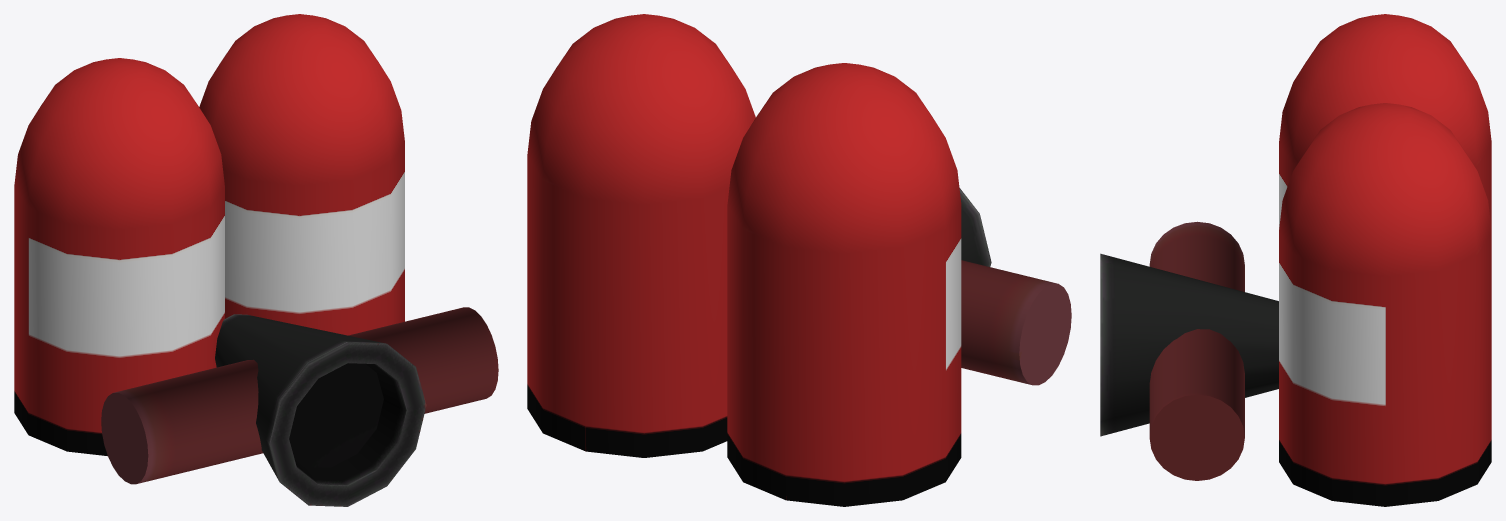
Rendered from FlamethrowerStatic.fbx.
3 views of the same model, side by side, from view 1: azimuth 30°, elevation 25°; view 2: azimuth 150°, elevation 25°; view 3: azimuth 270°, elevation 25° (orthographic). The views are drawn at different scales.
Parts seen in each view (by area): view 1: FlamethrowerStatic; view 2: FlamethrowerStatic; view 3: FlamethrowerStatic.
Boxes of the visible parts, x1=… form: FlamethrowerStatic: x1=14, y1=14, x2=498, y2=506; FlamethrowerStatic: x1=527, y1=14, x2=1071, y2=506; FlamethrowerStatic: x1=1100, y1=14, x2=1491, y2=506.
Bounding box in the file's own units: 0.7149 × 0.6781 × 0.6615.
Materials: 1 (1 with a texture image).
